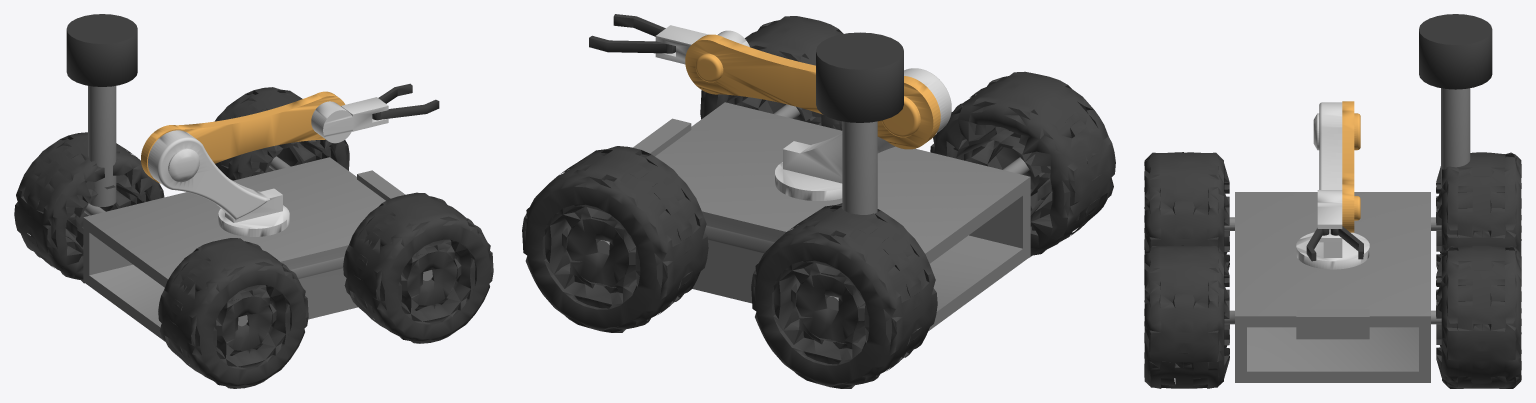
File: robot_high.glb
3 renders of one model, left to right at view 1: azimuth 30°, elevation 25°; view 2: azimuth 150°, elevation 25°; view 3: azimuth 270°, elevation 25°, orthographic. The views are drawn at different scales.
Visible parts, largest first — view 1: visual:chassis_link:0, visual:wheel1:0, visual:wheel2:0, visual:wheel4:0, visual:m_link1:0, visual:m_link2:0, visual:lidar_link:0, visual:wheel3:0, visual:lidar_link:1, visual:m_link3:0, visual:camera_link:0, visual:grip1:0; view 2: visual:chassis_link:0, visual:wheel3:0, visual:wheel4:0, visual:wheel2:0, visual:m_link2:0, visual:lidar_link:0, visual:m_link1:0, visual:wheel1:0, visual:lidar_link:1, visual:m_link3:0, visual:camera_link:0, visual:grip2:0 (+1 smaller); view 3: visual:chassis_link:0, visual:wheel1:0, visual:wheel3:0, visual:wheel2:0, visual:wheel4:0, visual:lidar_link:0, visual:m_link1:0, visual:lidar_link:1, visual:camera_link:0, visual:m_link2:0, visual:m_link3:0, visual:grip2:0 (+1 smaller).
Boxes of the visible parts, x1,y1,x2,y2 form: visual:chassis_link:0: (83,156,432,341); visual:wheel1:0: (343,192,493,343); visual:wheel2:0: (158,238,308,388); visual:wheel4:0: (14,132,164,283); visual:m_link1:0: (148,130,289,236); visual:m_link2:0: (141,91,345,183); visual:lidar_link:0: (66,14,137,86); visual:wheel3:0: (214,87,349,180); visual:lidar_link:1: (88,85,116,206); visual:m_link3:0: (311,97,388,143); visual:camera_link:0: (357,170,405,200); visual:grip1:0: (372,99,439,120); visual:chassis_link:0: (597,102,1030,331); visual:wheel3:0: (522,146,708,332); visual:wheel4:0: (751,203,937,388); visual:wheel2:0: (930,71,1115,257); visual:m_link2:0: (685,34,940,149); visual:lidar_link:0: (816,32,903,122); visual:m_link1:0: (775,68,951,200); visual:wheel1:0: (700,16,843,130); visual:lidar_link:1: (842,121,877,214); visual:m_link3:0: (655,25,749,64); visual:camera_link:0: (633,118,691,156); visual:grip2:0: (589,35,675,53); visual:chassis_link:0: (1224,192,1441,382); visual:wheel1:0: (1144,245,1229,388); visual:wheel3:0: (1436,245,1521,388); visual:wheel2:0: (1144,152,1229,280); visual:wheel4:0: (1436,152,1521,286); visual:lidar_link:0: (1419,14,1492,89); visual:m_link1:0: (1296,102,1369,269); visual:lidar_link:1: (1441,88,1470,187); visual:camera_link:0: (1296,309,1369,339); visual:m_link2:0: (1342,101,1360,232); visual:m_link3:0: (1317,190,1342,242); visual:grip2:0: (1330,226,1363,259).
Size of the model in its own units: 0.3182 by 0.2331 by 0.3076.
